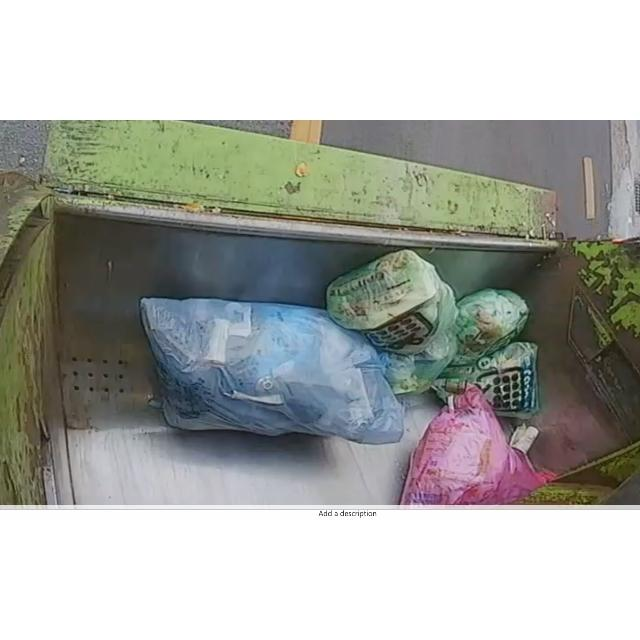general_trashbag: (326, 250, 452, 354), (432, 342, 539, 419), (454, 289, 529, 365)
other_trashbag: (140, 298, 404, 444), (400, 386, 548, 505)
